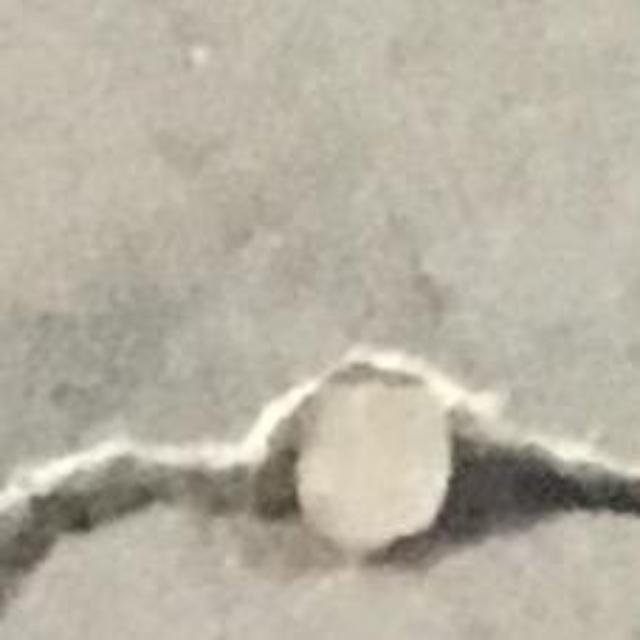crack: (0, 350, 639, 600)
